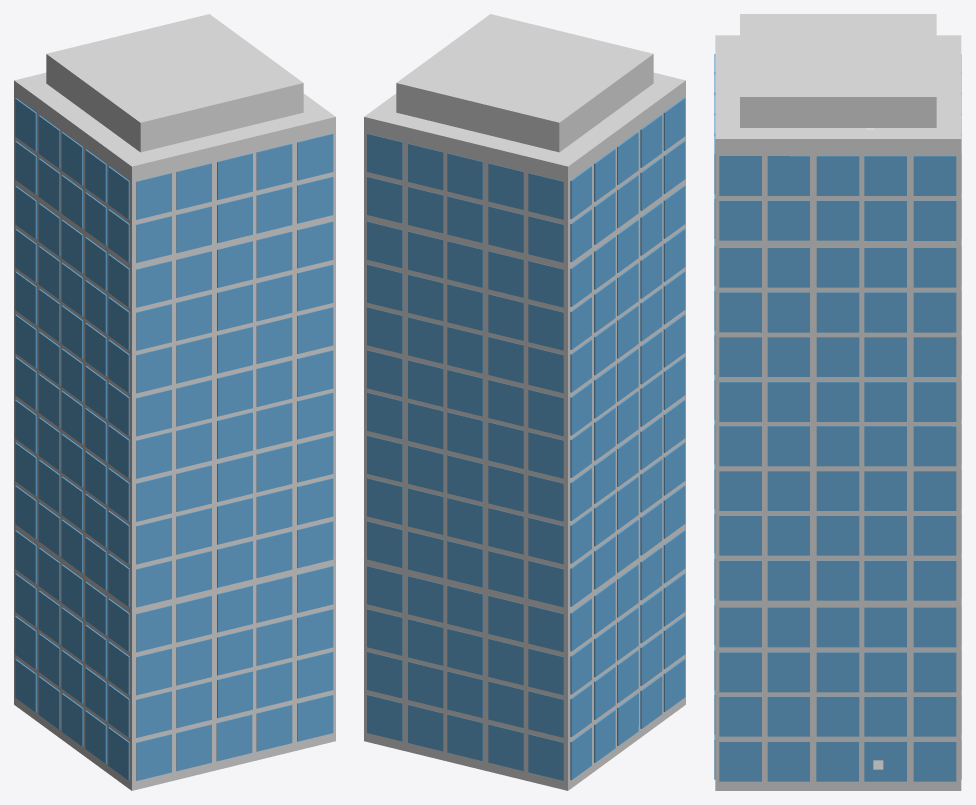
File: skyscraper.fbx
3 views of the same model, side by side, from view 1: azimuth 30°, elevation 25°; view 2: azimuth 150°, elevation 25°; view 3: azimuth 270°, elevation 25° (orthographic). The views are drawn at different scales.
Visible parts, largest first — view 1: Cube, Cube.081, Cube.099, Cube.114, Cube.115, Cube.054, Cube.057, Cube.085, Cube.088, Cube.095, Cube.098, Cube.104 (+130 smaller); view 2: Cube, Cube.081, Cube.030, Cube.005, Cube.011, Cube.012, Cube.014, Cube.017, Cube.027, Cube.029, Cube.036, Cube.061 (+130 smaller); view 3: Cube, Cube.081, Cube.192, Cube.195, Cube.145, Cube.148, Cube.151, Cube.152, Cube.155, Cube.158, Cube.161, Cube.168 (+60 smaller).
Boxes of the visible parts, left/top/right/bottom form: Cube: left=14, top=72, right=335, bottom=790; Cube.081: left=46, top=14, right=303, bottom=152; Cube.099: left=256, top=186, right=292, bottom=233; Cube.114: left=256, top=402, right=292, bottom=449; Cube.115: left=297, top=392, right=333, bottom=439; Cube.054: left=297, top=350, right=333, bottom=396; Cube.057: left=297, top=307, right=333, bottom=353; Cube.085: left=297, top=221, right=333, bottom=268; Cube.088: left=297, top=264, right=333, bottom=311; Cube.095: left=297, top=133, right=333, bottom=180; Cube.098: left=297, top=176, right=333, bottom=223; Cube.104: left=256, top=531, right=292, bottom=577; Cube: left=364, top=72, right=685, bottom=790; Cube.081: left=396, top=14, right=653, bottom=152; Cube.030: left=447, top=412, right=482, bottom=458; Cube.005: left=528, top=734, right=563, bottom=780; Cube.011: left=447, top=585, right=482, bottom=632; Cube.012: left=488, top=595, right=523, bottom=642; Cube.014: left=367, top=566, right=402, bottom=612; Cube.017: left=367, top=609, right=402, bottom=655; Cube.027: left=367, top=392, right=402, bottom=439; Cube.029: left=488, top=422, right=523, bottom=468; Cube.036: left=528, top=560, right=563, bottom=607; Cube.061: left=447, top=284, right=482, bottom=330; Cube: left=715, top=35, right=961, bottom=790; Cube.081: left=740, top=14, right=936, bottom=129; Cube.192: left=816, top=292, right=859, bottom=332; Cube.195: left=913, top=292, right=956, bottom=332; Cube.145: left=913, top=741, right=956, bottom=781; Cube.148: left=913, top=696, right=956, bottom=736; Cube.151: left=816, top=696, right=859, bottom=736; Cube.152: left=816, top=607, right=859, bottom=647; Cube.155: left=913, top=607, right=956, bottom=647; Cube.158: left=913, top=652, right=956, bottom=692; Cube.161: left=816, top=652, right=859, bottom=692; Cube.168: left=913, top=426, right=956, bottom=466.
Size of the model in its own units: 5189 by 15330 by 5032.
